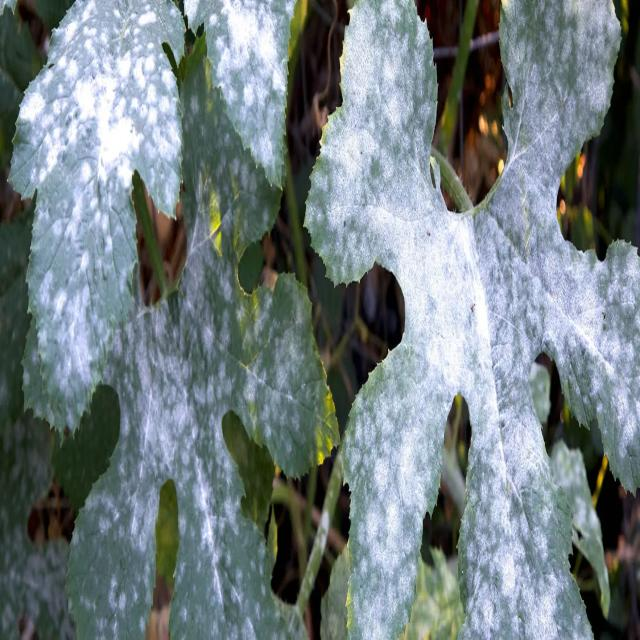Powdery Mildew: (302, 0, 638, 637), (11, 10, 312, 507)
